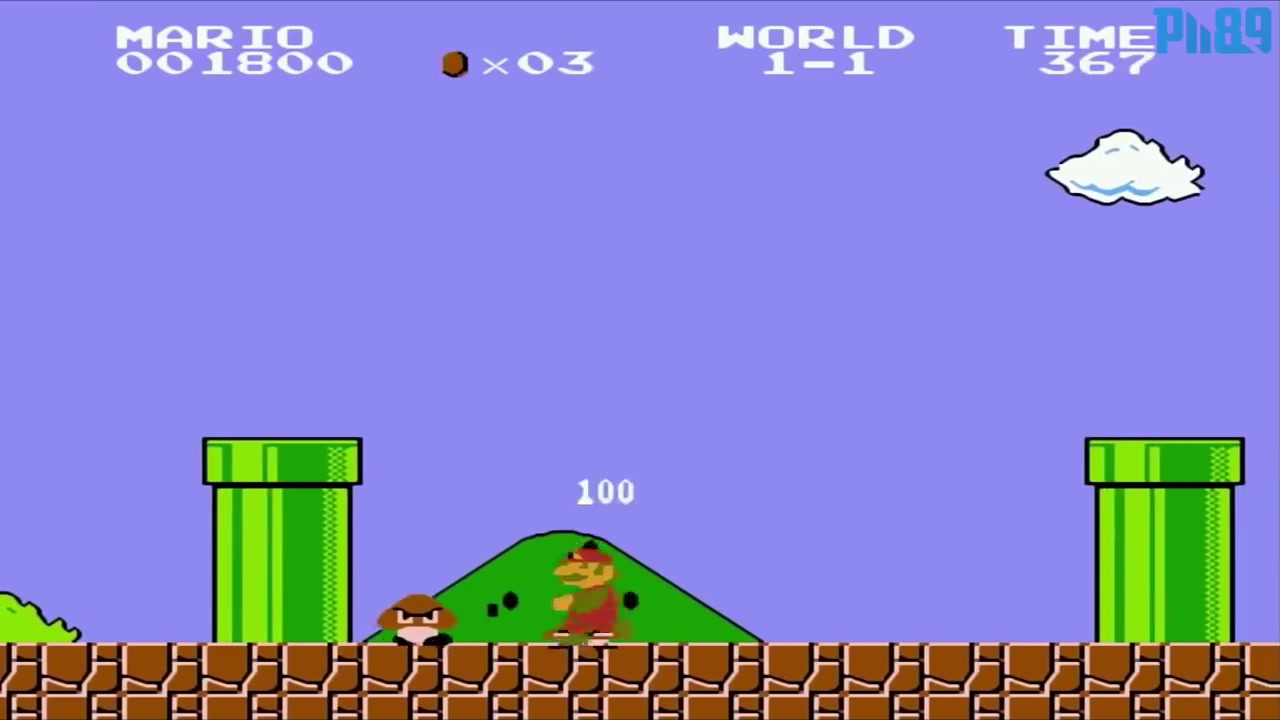mario: (546, 546, 627, 638)
